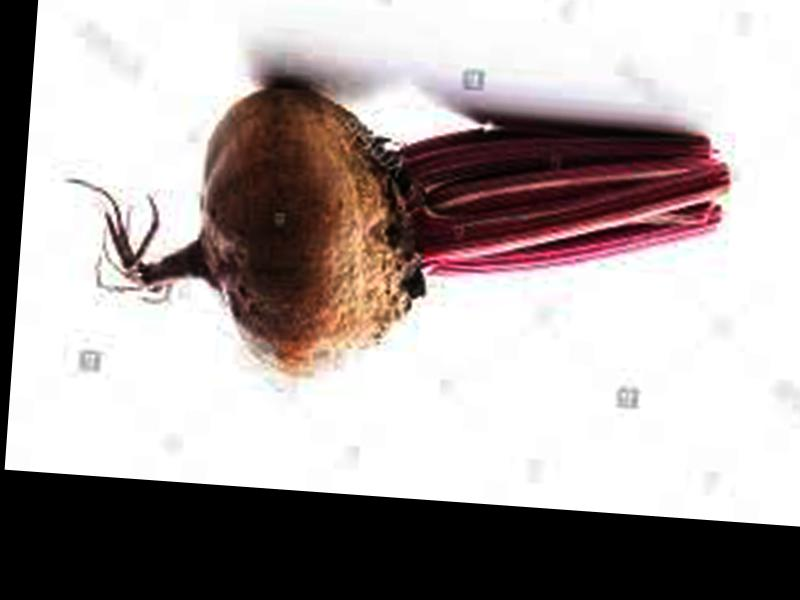Beet: (54, 70, 734, 404)
